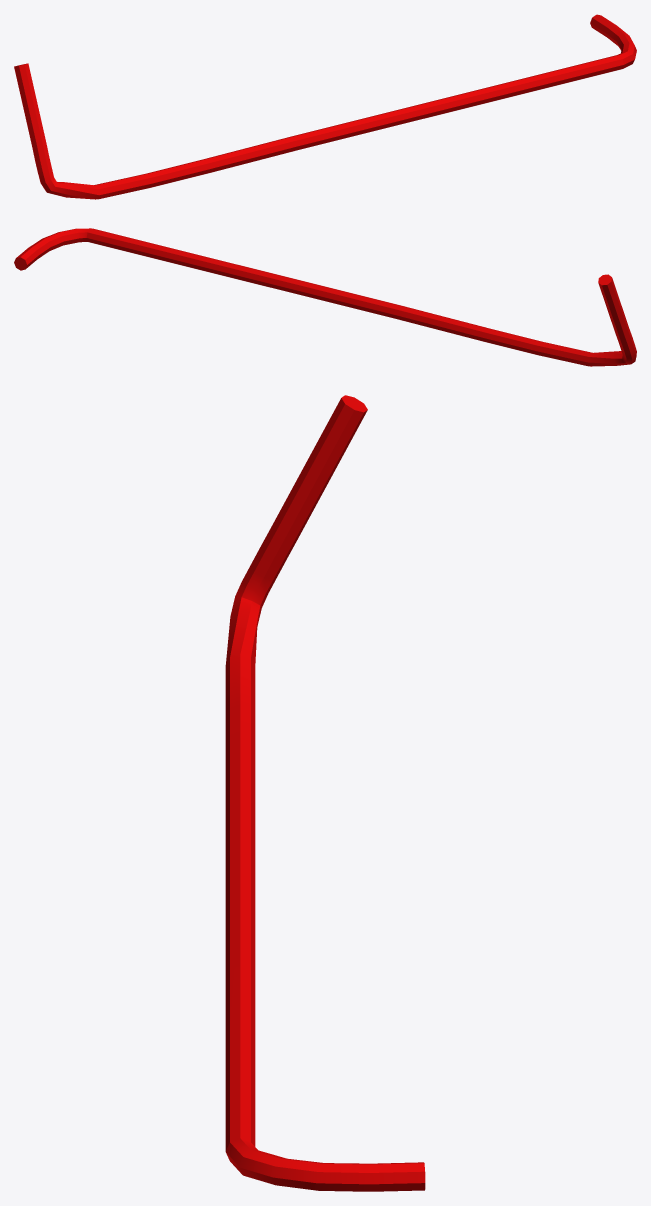
The model's file is FioP.fbx.
The picture shows the model from 3 angles, top to bottom: view 1: azimuth 30°, elevation 25°; view 2: azimuth 150°, elevation 25°; view 3: azimuth 270°, elevation 25°; orthographic projection. The views are drawn at different scales.
Parts seen in each view (by area): view 1: polySurface2; view 2: polySurface2; view 3: polySurface2.
Part boxes in pixels (x1,y1,x2,y2): polySurface2: [14, 14, 636, 199]; polySurface2: [14, 228, 636, 366]; polySurface2: [225, 395, 425, 1191].
Size of the model in its own units: 4.02 by 0.8051 by 0.5976.
